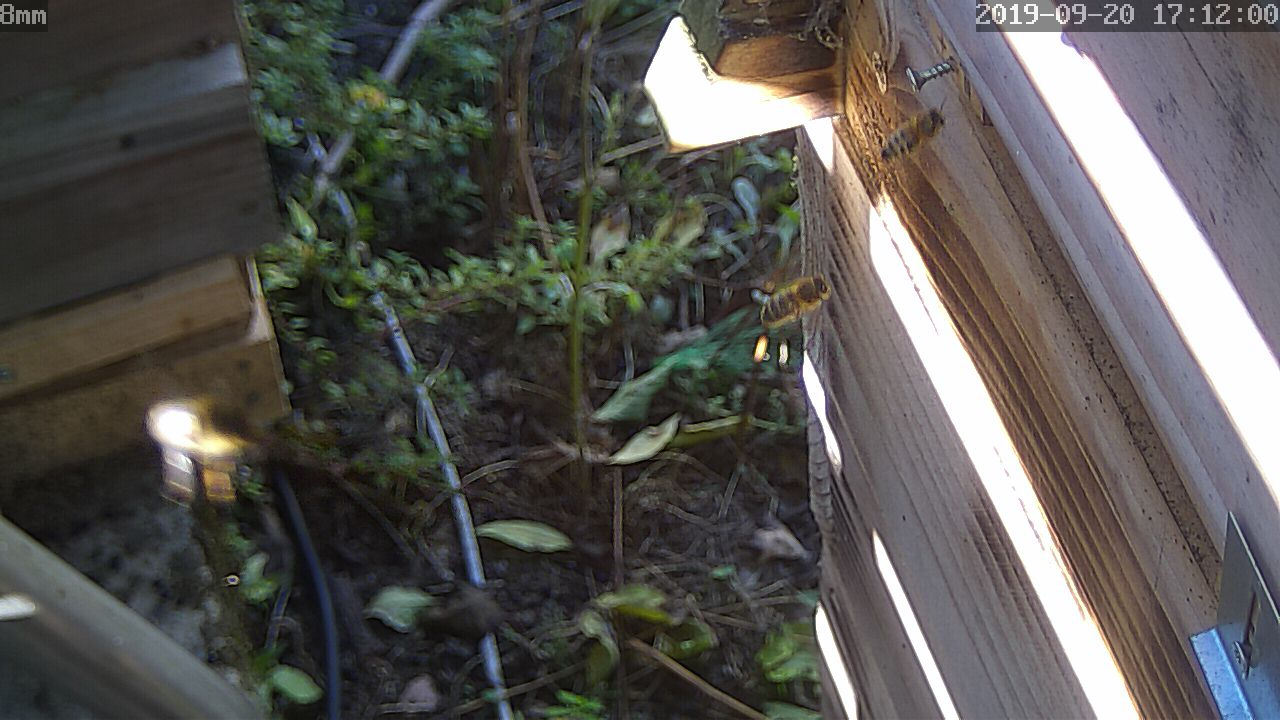bee: (754, 260, 840, 336), (874, 100, 953, 169)
